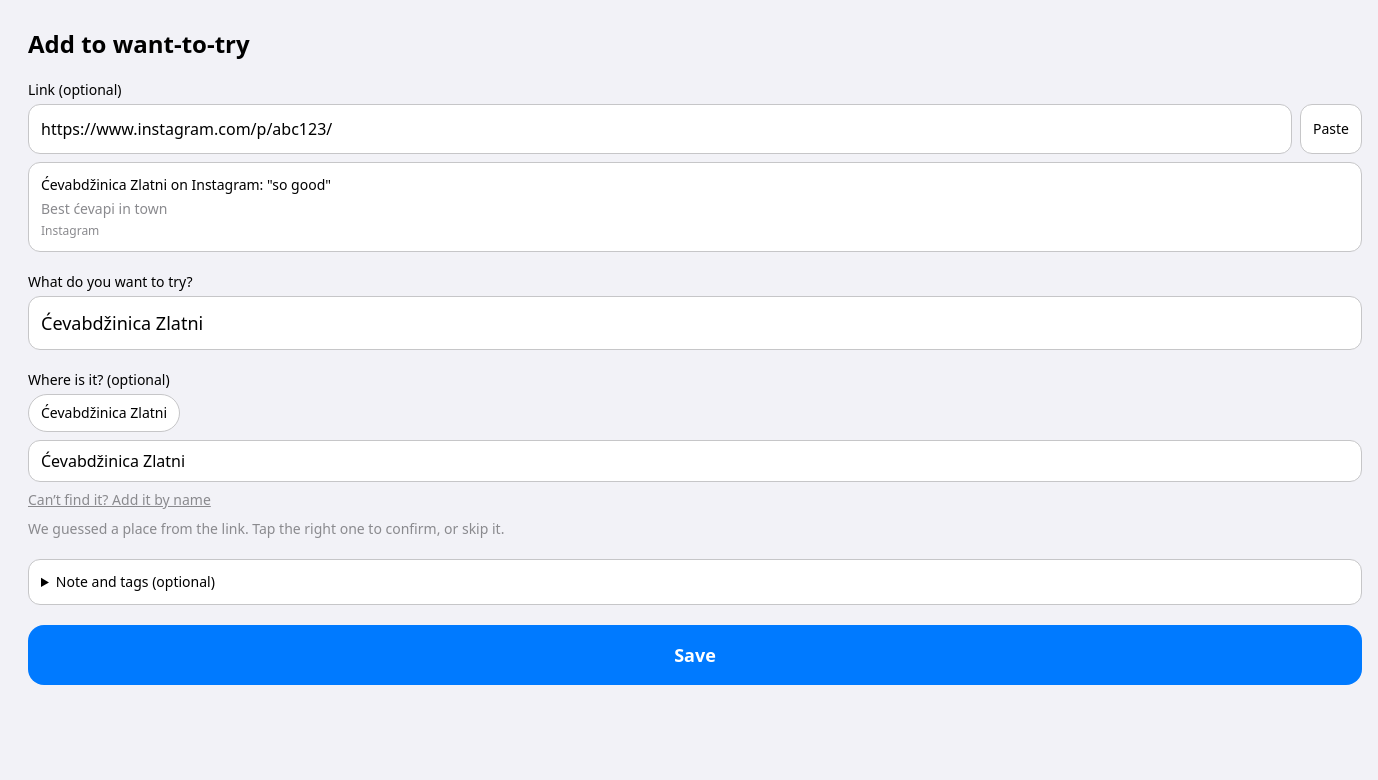
Test: adding to want-to-try › reads a shared link, guesses the name and place, and saves what the user confirms
Expected: the element with test id "link-preview" shows "Best ćevapi in town", [41, 199, 167, 218]
Expected: the field labelled "What do you want to try?" holds "Ćevabdžinica Zlatni", [28, 296, 1362, 350]
Click the button "Ćevabdžinica Zlatni": (104, 413) [28, 394, 180, 432]
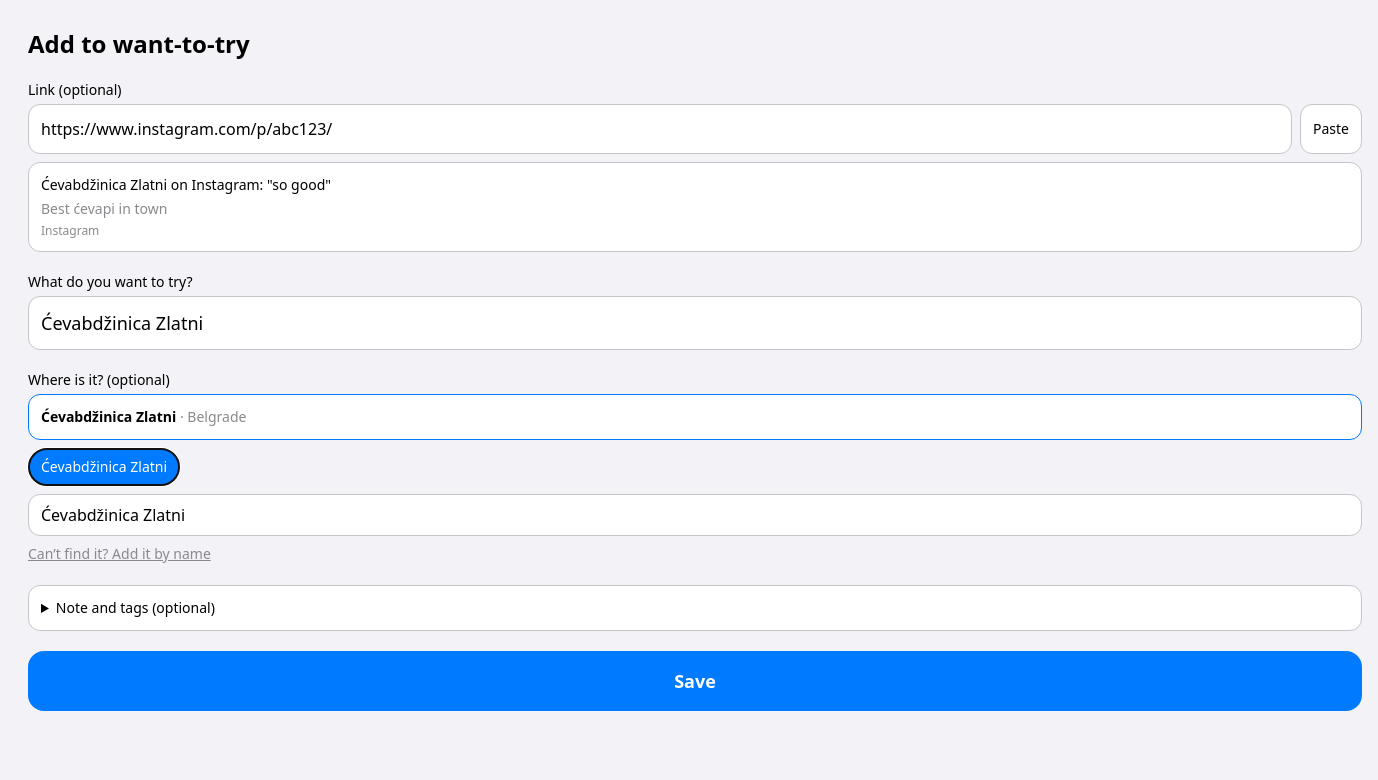
Result: the element with test id "selected-place" shows "Ćevabdžinica Zlatni" at [41, 407, 176, 426]
Click the button "Save": (695, 681) [28, 651, 1362, 711]
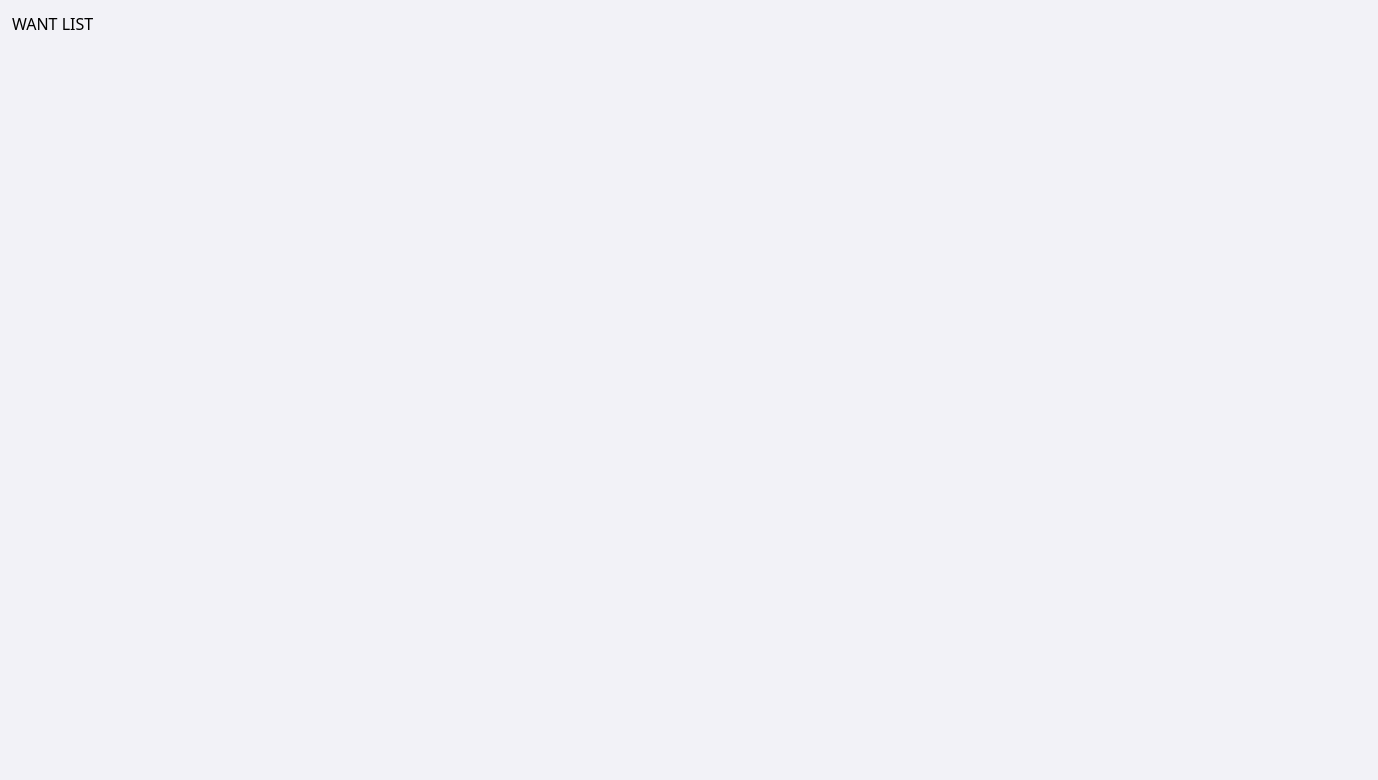
Result: the text "WANT LIST" is shown at [12, 13, 93, 35]
